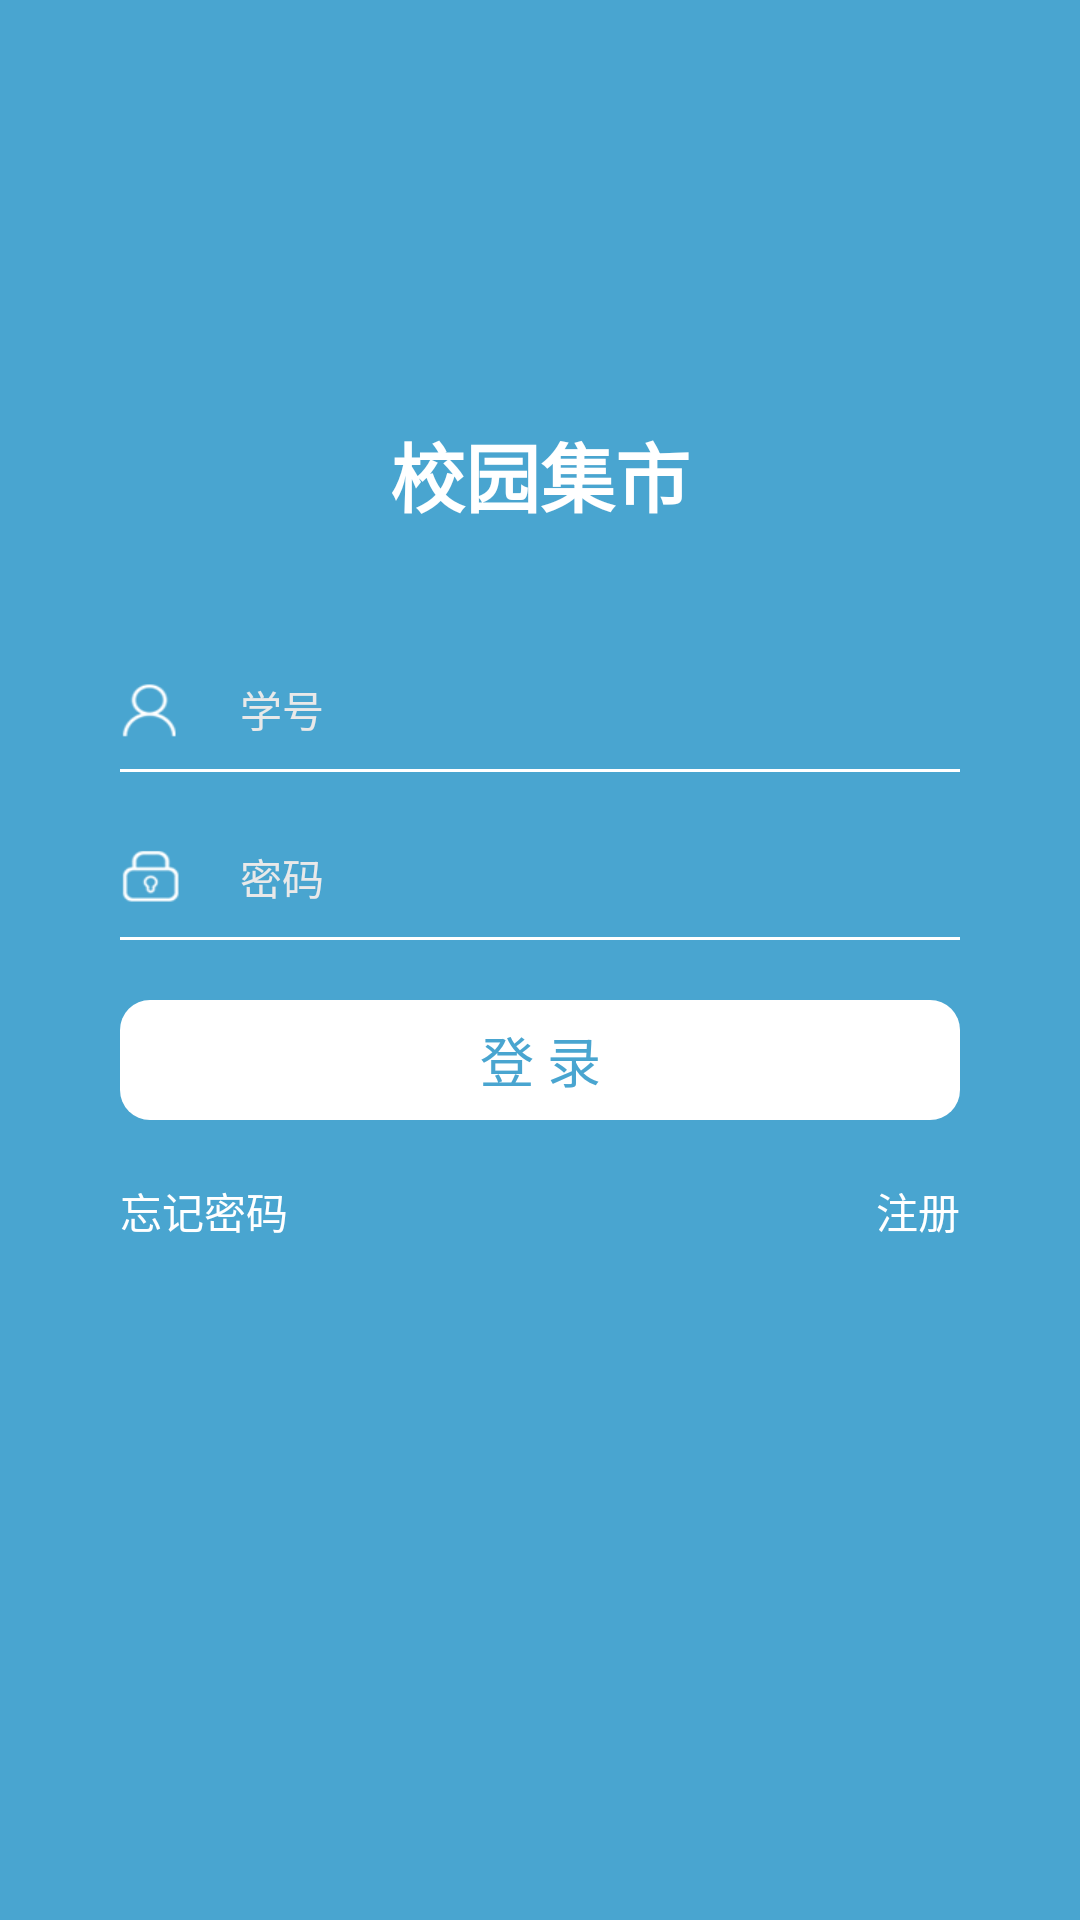

Icon bounding boxes for this 1080px x 1920px phone screenshot, format (x1, y1, x2, y2):
password: (123, 851, 179, 902)
username: (123, 684, 176, 737)
